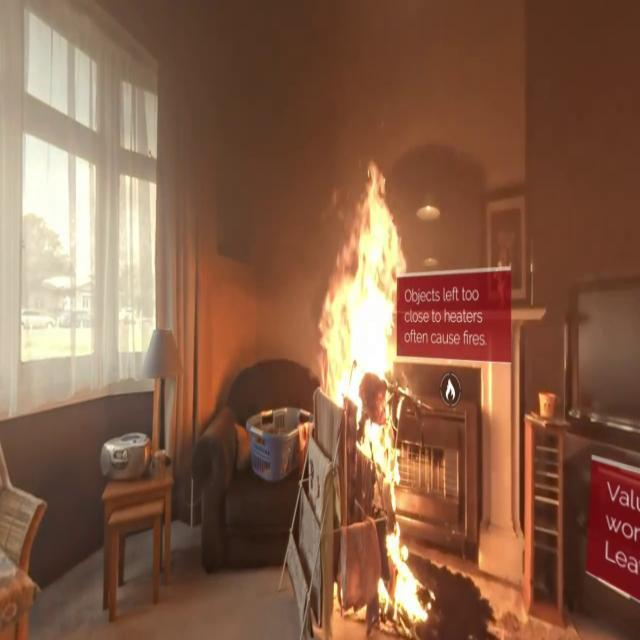Fire: (316, 154, 416, 497), (380, 510, 432, 630)
